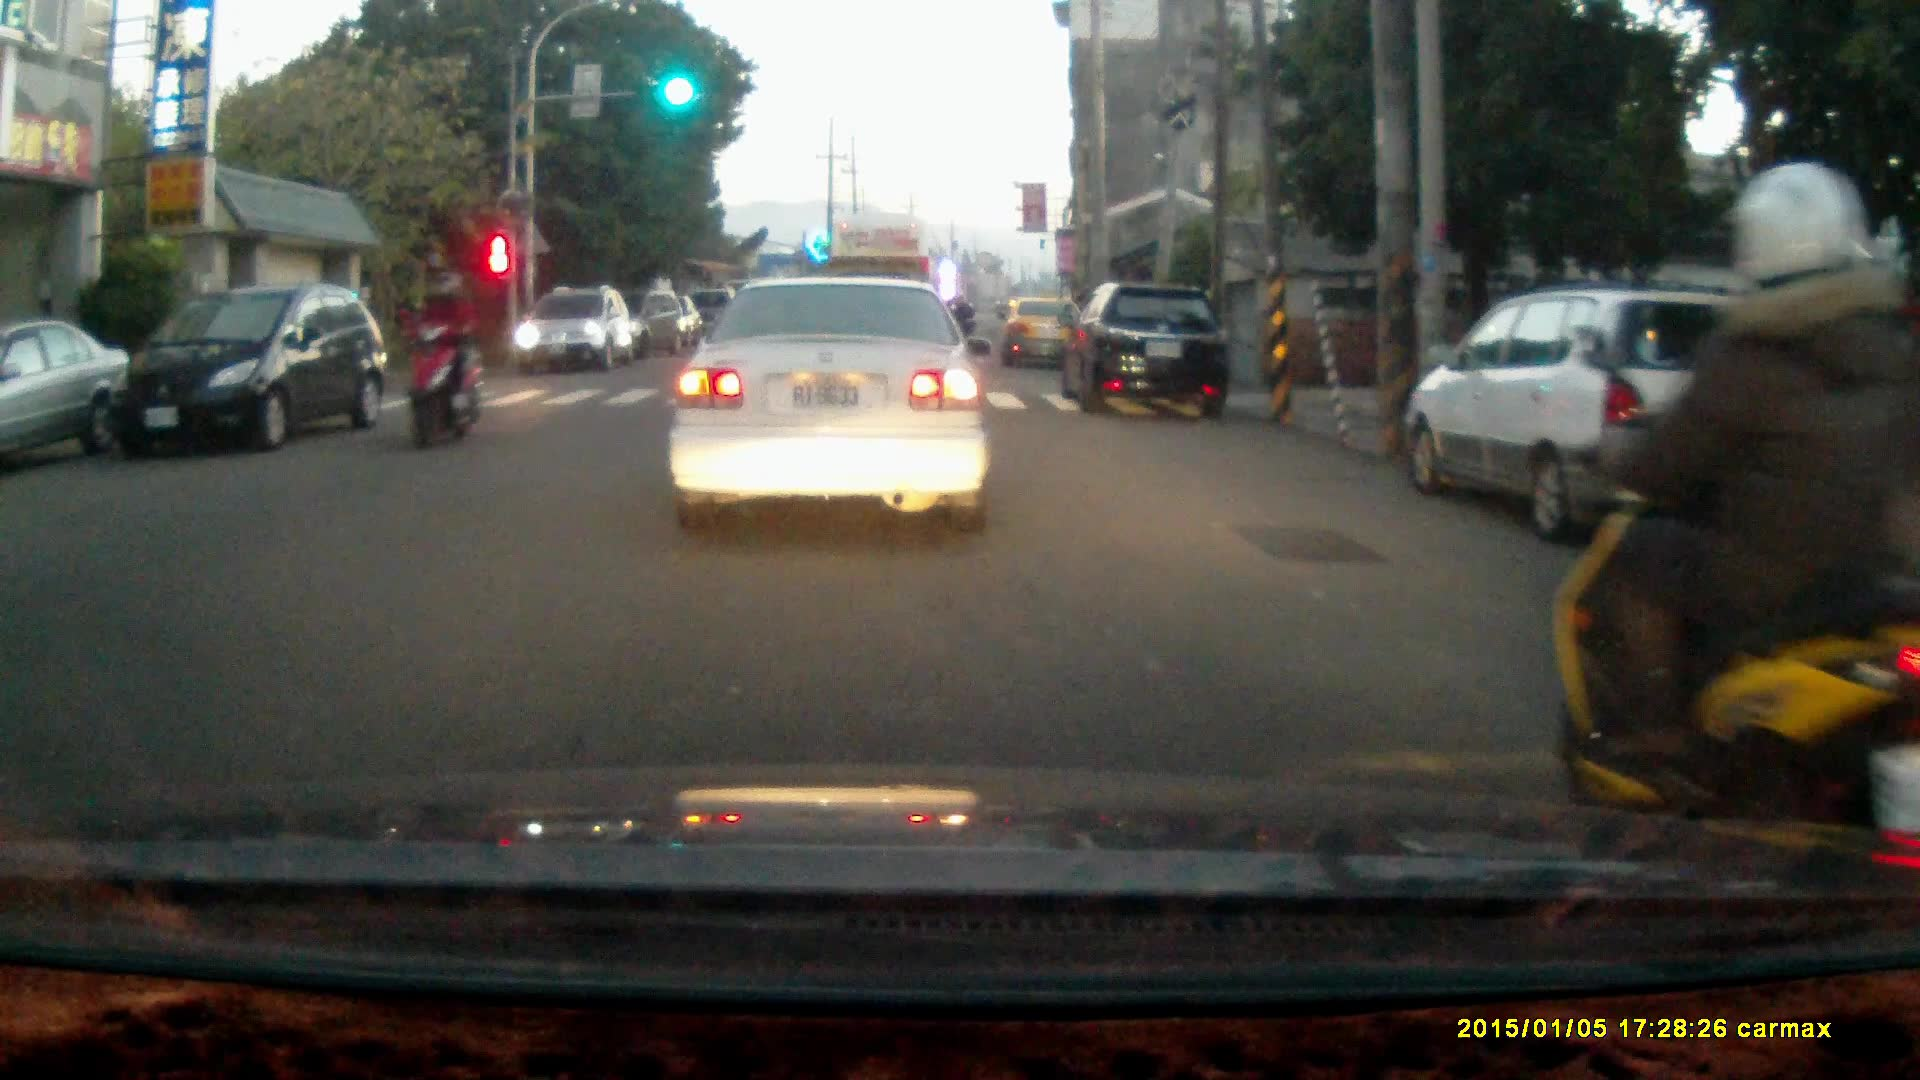rider: (1549, 161, 1920, 895), (400, 265, 480, 454)
vehicle: (1399, 287, 1815, 546), (673, 271, 995, 527), (103, 281, 390, 459), (1070, 282, 1231, 418), (0, 318, 128, 470), (825, 206, 940, 364), (517, 288, 638, 379), (1000, 295, 1095, 373)
